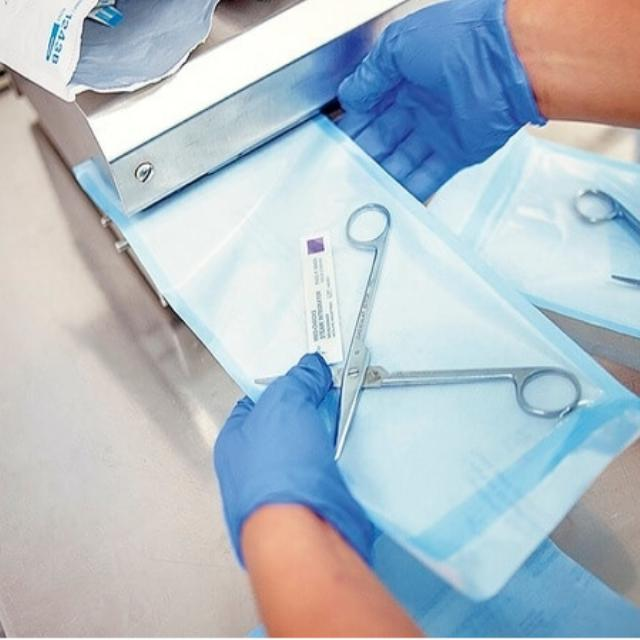B3: (246, 196, 592, 502)
